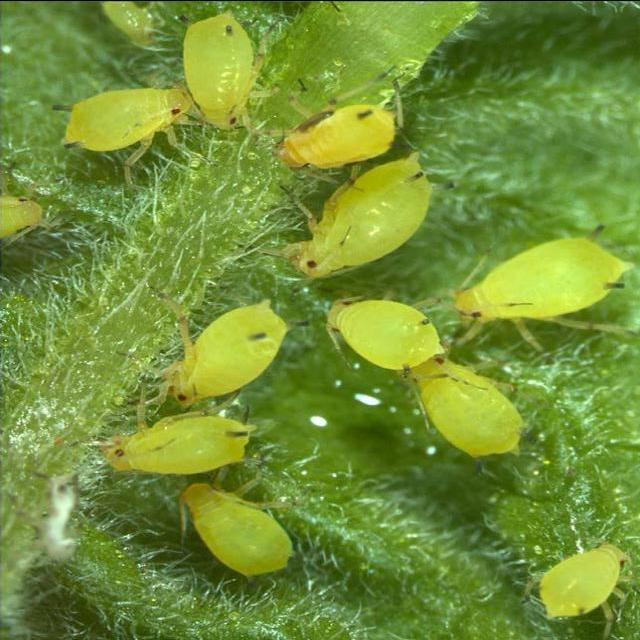aphid: (322, 234, 620, 448), (101, 298, 297, 466), (72, 2, 254, 162), (284, 81, 408, 276), (175, 468, 298, 574), (536, 541, 638, 616)
